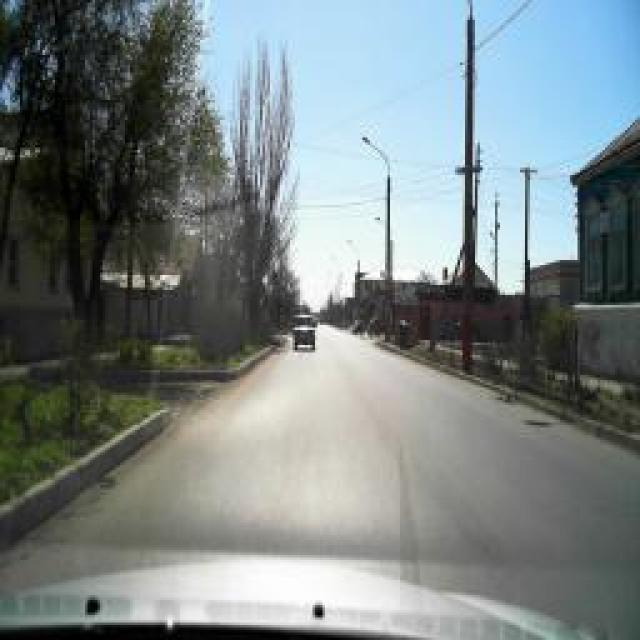sign: (384, 271, 394, 291)
